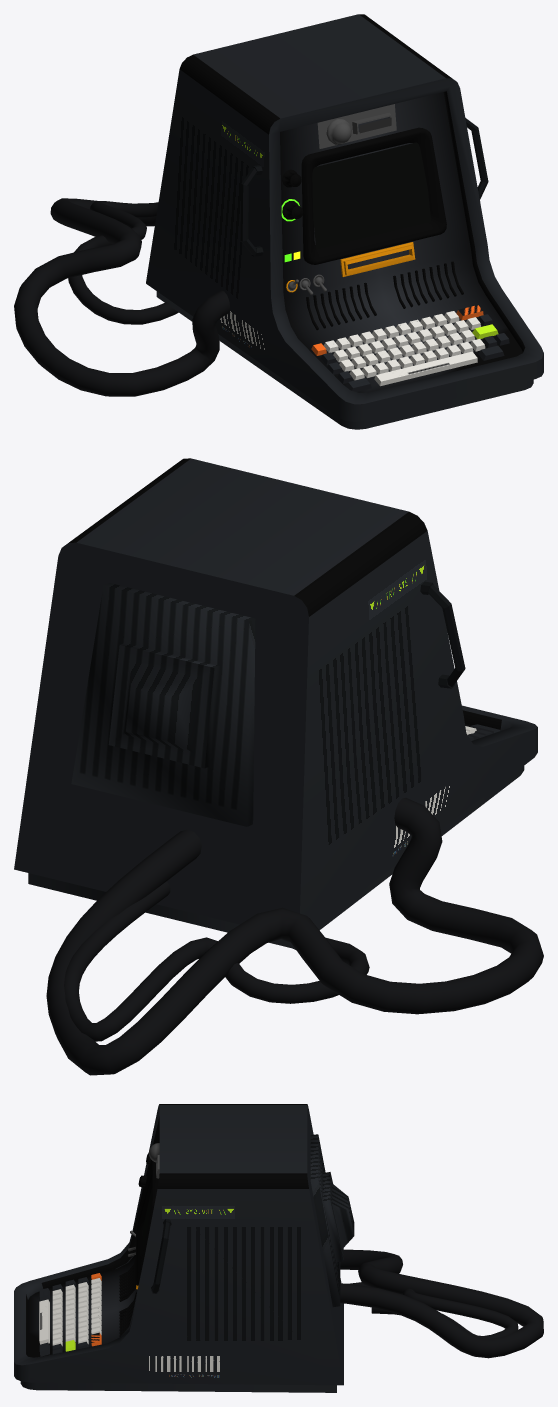
The model's file is trv01.glb.
The picture shows the model from 3 angles, top to bottom: view 1: azimuth 30°, elevation 25°; view 2: azimuth 150°, elevation 25°; view 3: azimuth 270°, elevation 25°; orthographic projection. The views are drawn at different scales.
Parts seen in each view (by area): view 1: backplate, front-plate, CORD2, Screen, Circle.011, Circle.015; view 2: backplate, CORD2; view 3: backplate, CORD2, front-plate, Circle.011.
Part boxes in pixels (left/top/right/bottom): backplate: left=146, top=14, right=543, bottom=429; front-plate: left=280, top=92, right=522, bottom=392; CORD2: left=14, top=198, right=229, bottom=396; Screen: left=312, top=142, right=430, bottom=249; Circle.011: left=281, top=127, right=446, bottom=264; Circle.015: left=286, top=104, right=415, bottom=294; backplate: left=14, top=458, right=537, bottom=948; CORD2: left=46, top=798, right=543, bottom=1075; backplate: left=14, top=1104, right=354, bottom=1392; CORD2: left=340, top=1249, right=543, bottom=1358; front-plate: left=28, top=1255, right=137, bottom=1357; Circle.011: left=136, top=1153, right=158, bottom=1285.
Size of the model in its own units: 0.7094 by 0.51 by 1.05.
Materials: 10 (2 with a texture image).
